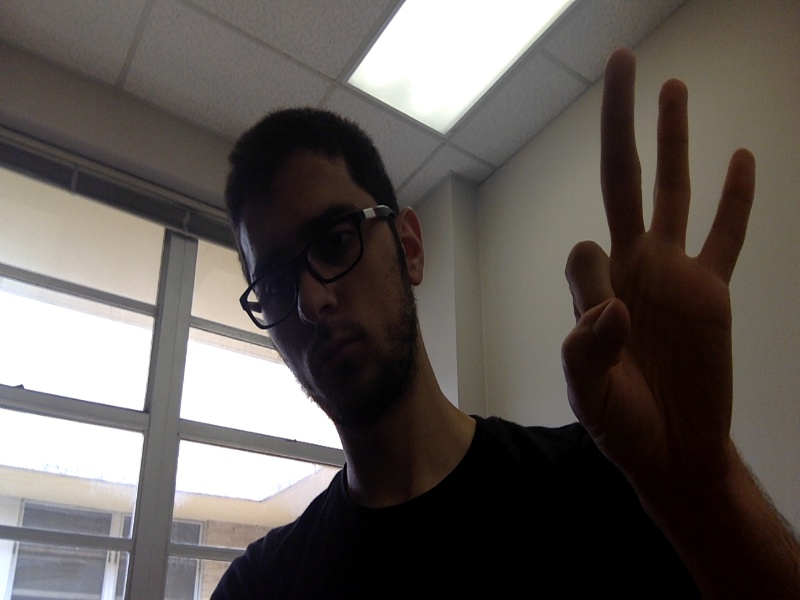3-hand: (562, 47, 753, 457)
